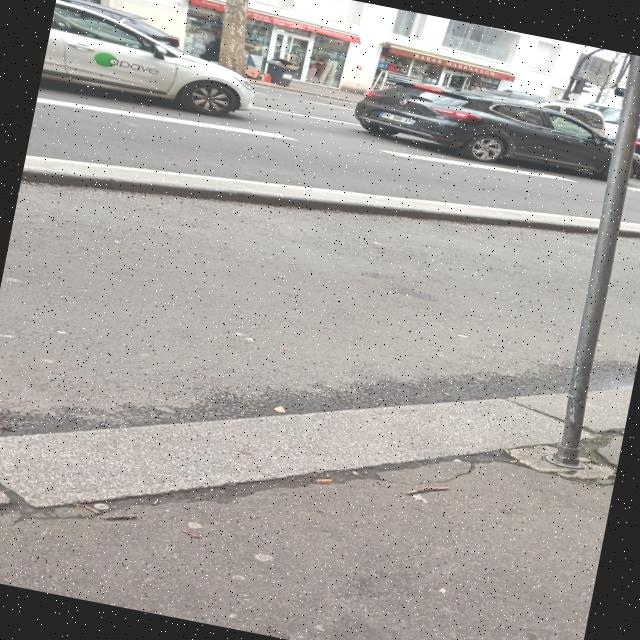Autre: (372, 106, 427, 130)
